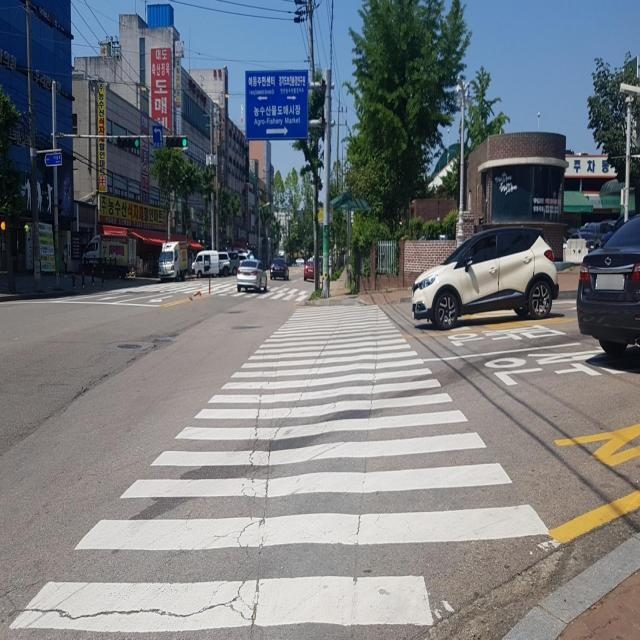횡단보도: (9, 304, 552, 632), (146, 286, 312, 303)
